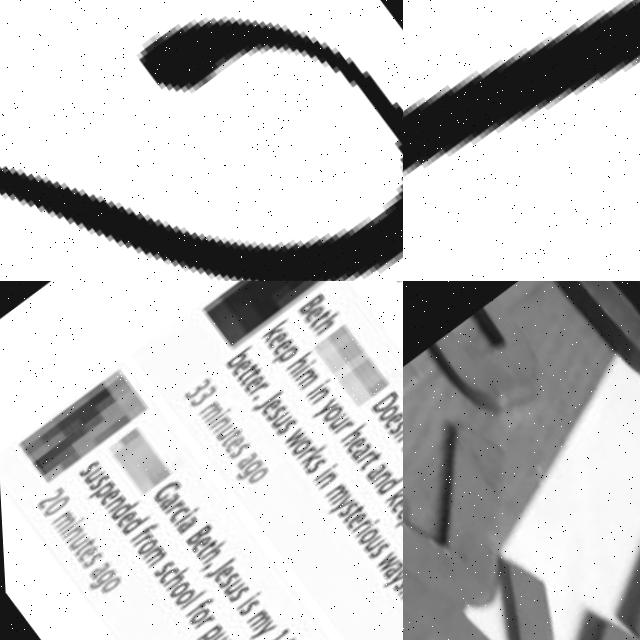2: (0, 0, 403, 281)
5: (83, 480, 113, 504)
A: (229, 449, 259, 474), (151, 489, 181, 514), (81, 558, 111, 583), (344, 442, 372, 466), (375, 560, 403, 584), (169, 514, 197, 538), (359, 463, 386, 485)
B: (220, 345, 254, 372), (293, 294, 324, 320), (181, 524, 210, 548)
C: (152, 564, 179, 586), (163, 505, 187, 525)
D: (115, 509, 150, 537), (368, 393, 399, 419), (372, 474, 402, 498), (105, 497, 135, 521)
E: (109, 507, 137, 531), (299, 305, 326, 327), (262, 330, 289, 352), (267, 337, 294, 359), (226, 357, 253, 379), (238, 373, 265, 395), (255, 397, 282, 419), (338, 513, 365, 535), (218, 434, 245, 456), (185, 533, 212, 555), (93, 486, 120, 508), (70, 542, 97, 564), (377, 411, 403, 433), (340, 437, 367, 458), (208, 565, 232, 585), (383, 496, 403, 518), (388, 502, 403, 524)
F: (124, 520, 157, 546), (180, 596, 209, 619)
G: (229, 458, 263, 485), (148, 479, 179, 505), (84, 567, 114, 591)
H: (335, 423, 369, 450), (195, 539, 229, 566), (312, 313, 342, 337), (284, 352, 314, 376), (157, 568, 187, 592)
I: (288, 360, 316, 380), (301, 381, 329, 401), (309, 465, 337, 485), (168, 508, 196, 528), (350, 521, 377, 540), (231, 593, 258, 612), (203, 409, 229, 428), (57, 517, 81, 534)
J: (403, 0, 640, 281), (403, 385, 571, 640), (247, 388, 283, 416), (197, 555, 232, 582)
K: (294, 445, 329, 474), (258, 317, 292, 345), (378, 484, 403, 511)
L: (175, 589, 203, 609)
M: (194, 401, 223, 425), (137, 544, 164, 569), (292, 368, 318, 391), (320, 484, 346, 507), (241, 610, 267, 633), (46, 510, 72, 533)
N: (366, 470, 393, 492), (56, 522, 83, 544), (205, 415, 229, 435), (305, 388, 328, 408), (101, 494, 125, 513), (312, 473, 335, 492), (388, 424, 403, 446)
O: (316, 405, 344, 429), (129, 535, 157, 559), (167, 586, 194, 610), (241, 465, 269, 488), (181, 606, 208, 628), (162, 580, 187, 601), (374, 406, 398, 426), (287, 439, 311, 459), (353, 529, 377, 549), (95, 574, 119, 594)
P: (267, 346, 298, 372), (190, 623, 220, 640), (390, 511, 403, 535)
R: (345, 519, 371, 540), (159, 498, 185, 519), (246, 380, 270, 400), (351, 451, 374, 469), (127, 532, 150, 550), (331, 420, 353, 438), (294, 445, 316, 463), (191, 615, 210, 631)
S: (538, 281, 640, 400), (260, 403, 287, 425), (299, 457, 326, 479), (331, 500, 358, 522), (223, 441, 250, 463), (211, 571, 238, 593), (222, 583, 249, 605), (232, 597, 259, 619), (72, 457, 99, 479), (146, 558, 173, 580), (272, 417, 298, 438), (83, 472, 109, 493), (76, 549, 102, 570), (364, 543, 387, 563), (383, 575, 403, 597), (383, 418, 403, 439)
T: (189, 538, 217, 560), (355, 453, 383, 475), (232, 363, 259, 385), (306, 310, 332, 331), (236, 367, 262, 388), (69, 536, 95, 556), (339, 506, 363, 525), (218, 429, 242, 448), (396, 435, 403, 456)
U: (210, 422, 237, 444), (324, 414, 348, 434), (218, 579, 242, 599), (79, 466, 103, 486), (63, 531, 87, 551), (267, 412, 291, 431), (358, 537, 382, 556), (200, 631, 224, 640)
V: (418, 526, 640, 640)
W: (278, 430, 304, 453), (370, 553, 396, 576)
Y: (307, 399, 338, 425), (322, 496, 352, 520), (375, 569, 403, 593), (241, 621, 271, 640)
